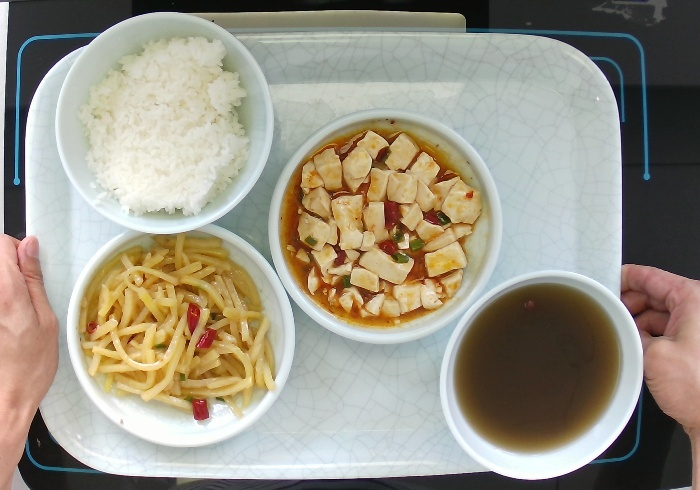JYsf-Fan_Wan: (52, 10, 276, 236), (437, 266, 645, 481)
JYsf-Xiao_Yuan_Pan: (266, 105, 504, 346), (63, 222, 298, 450)
